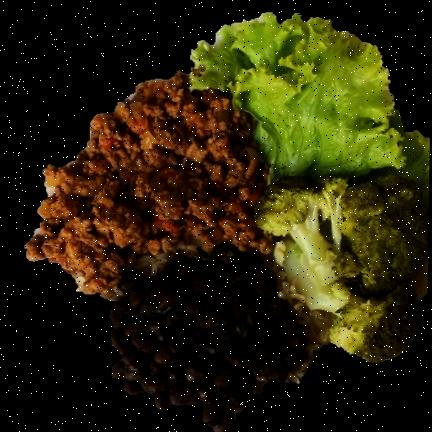beans: (114, 242, 324, 432)
broccoli: (255, 173, 429, 363)
meat: (25, 73, 277, 298)
salad: (193, 16, 430, 199)
